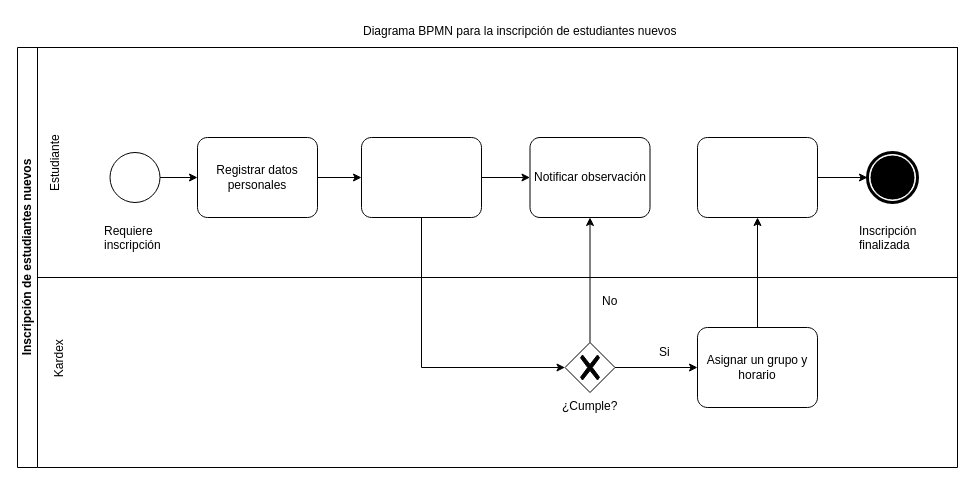
Image size: 975x485. Some labels were removed from this diagram. Each missing label, with the centre of its shape:
"Notificar inscripción" belongs at pixel 757 177.
"Presentar documentos" belongs at pixel 421 177.
